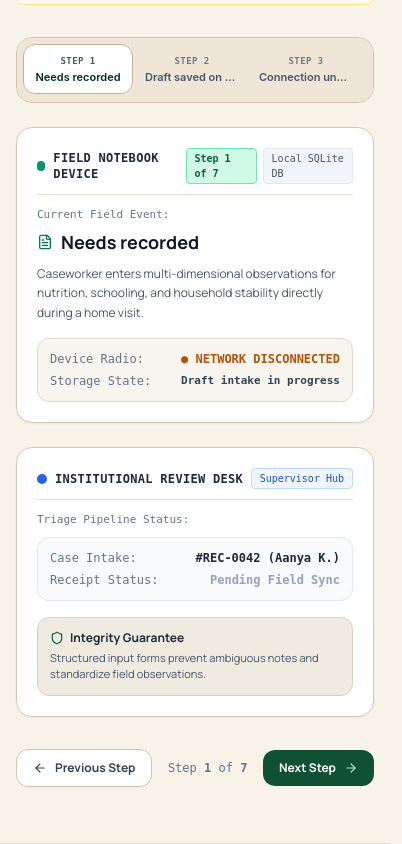
Test: Signature Motion & Narrative Components › MOMENT C: ConnectedCareStory Component › supports step-by-step navigation via Next and Previous buttons
(page scrolled)
expect the text "Step 1 of 7" is shown: met, box [186, 148, 257, 184]
# Click Next Step
Click the button with aria-label "next lifecycle step": x=318, y=768 [263, 750, 374, 786]
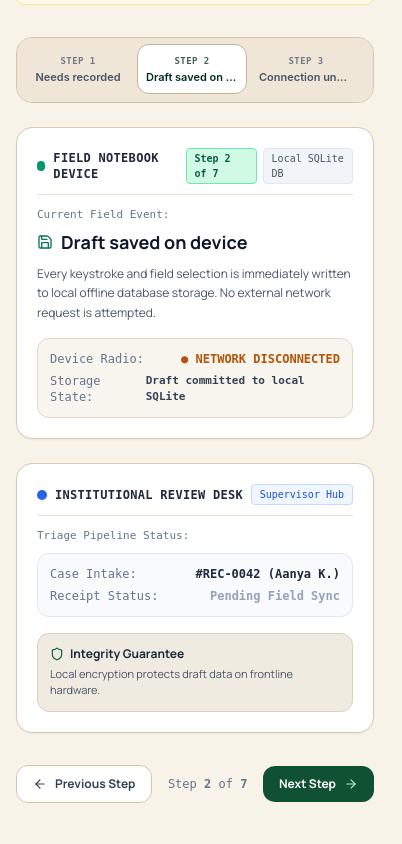
expect the text "Step 2 of 7" is shown: met, box [186, 148, 257, 184]
expect the text "Draft committed to local SQLite" is shown: met, box [146, 374, 305, 403]
# Click Previous Step
Click the button with aria-label "previous lifecycle step": x=84, y=784 [16, 765, 152, 803]
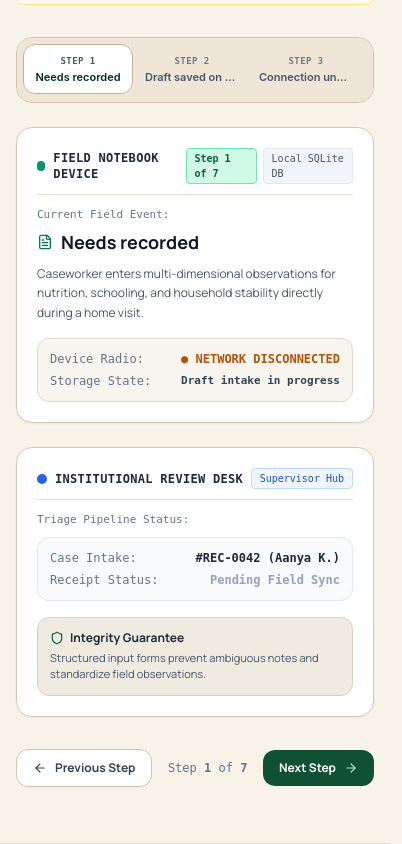
expect the text "Step 1 of 7" is shown: met, box [186, 148, 257, 184]
